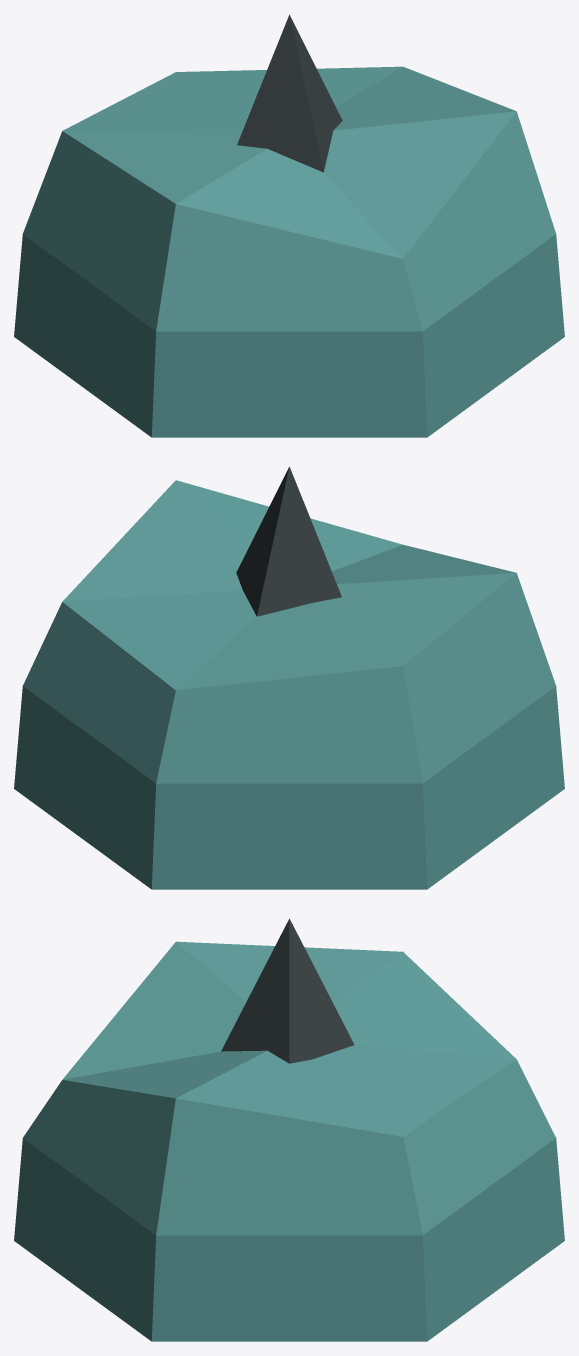
File: Candle_2_Blue.fbx
3 views of the same model, one above another, from view 1: azimuth 30°, elevation 25°; view 2: azimuth 150°, elevation 25°; view 3: azimuth 270°, elevation 25° (orthographic).
Parts seen in each view (by area): view 1: Candle_2_Blue; view 2: Candle_2_Blue; view 3: Candle_2_Blue.
Boxes of the visible parts, x1=… form: Candle_2_Blue: x1=14, y1=14, x2=564, y2=437; Candle_2_Blue: x1=14, y1=466, x2=564, y2=889; Candle_2_Blue: x1=14, y1=918, x2=564, y2=1341.
Size of the model in its own units: 14.7 by 10.96 by 16.97.
